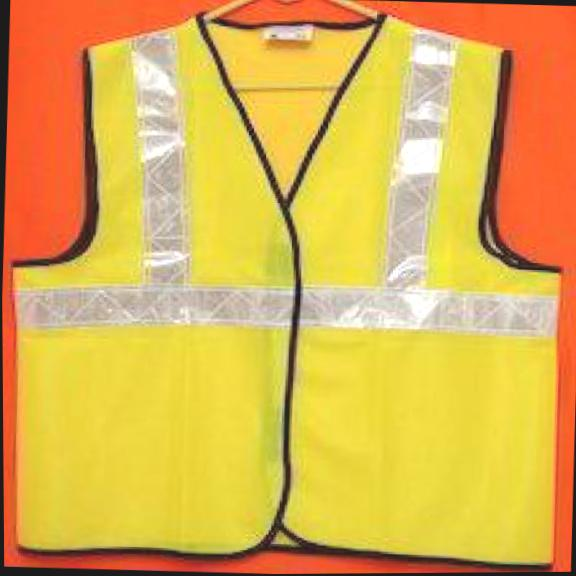safety_vest: (0, 0, 575, 574)
